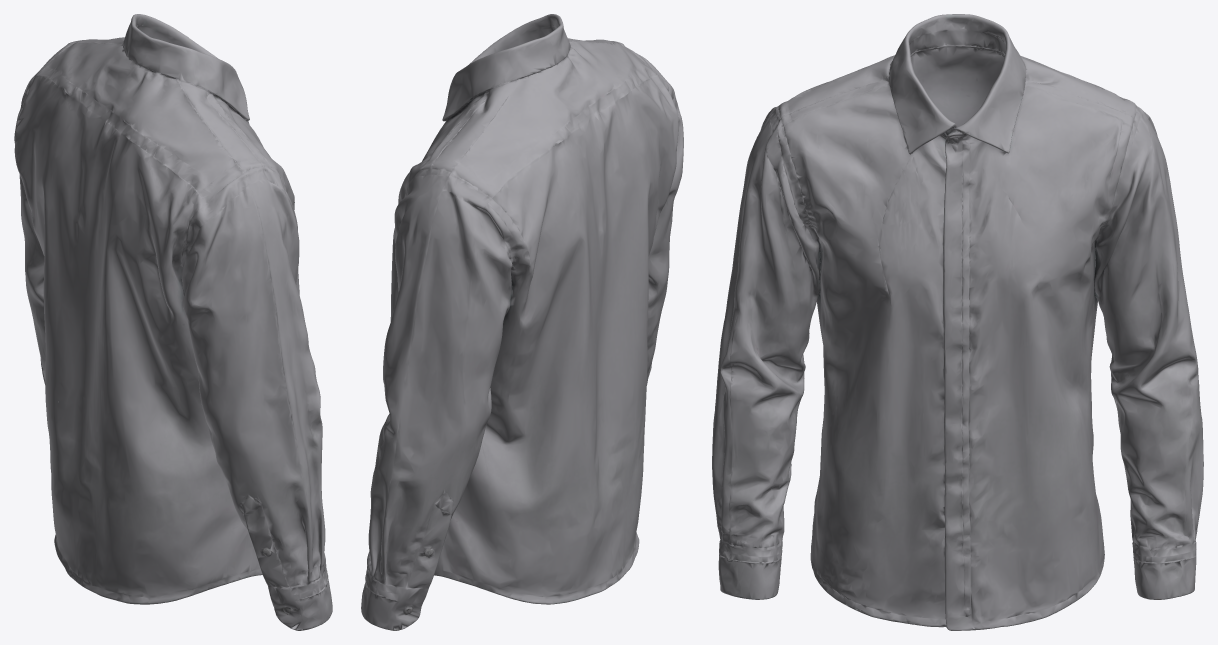
File: CAMISA.glb
3 views of the same model, side by side, from view 1: azimuth 30°, elevation 25°; view 2: azimuth 150°, elevation 25°; view 3: azimuth 270°, elevation 25° (orthographic). The views are drawn at different scales.
Parts seen in each view (by area): view 1: tripo_node_0dd746b1-d29f-49a6-abbc-054c07e46ea6; view 2: tripo_node_0dd746b1-d29f-49a6-abbc-054c07e46ea6; view 3: tripo_node_0dd746b1-d29f-49a6-abbc-054c07e46ea6.
Boxes of the visible parts, box(x1,y1,x2,y2) form: tripo_node_0dd746b1-d29f-49a6-abbc-054c07e46ea6: box(14, 14, 332, 630); tripo_node_0dd746b1-d29f-49a6-abbc-054c07e46ea6: box(361, 14, 683, 630); tripo_node_0dd746b1-d29f-49a6-abbc-054c07e46ea6: box(712, 14, 1203, 630).
Size of the model in its own units: 0.395 by 0.9793 by 0.7863.
Materials: 1 (1 with a texture image).
